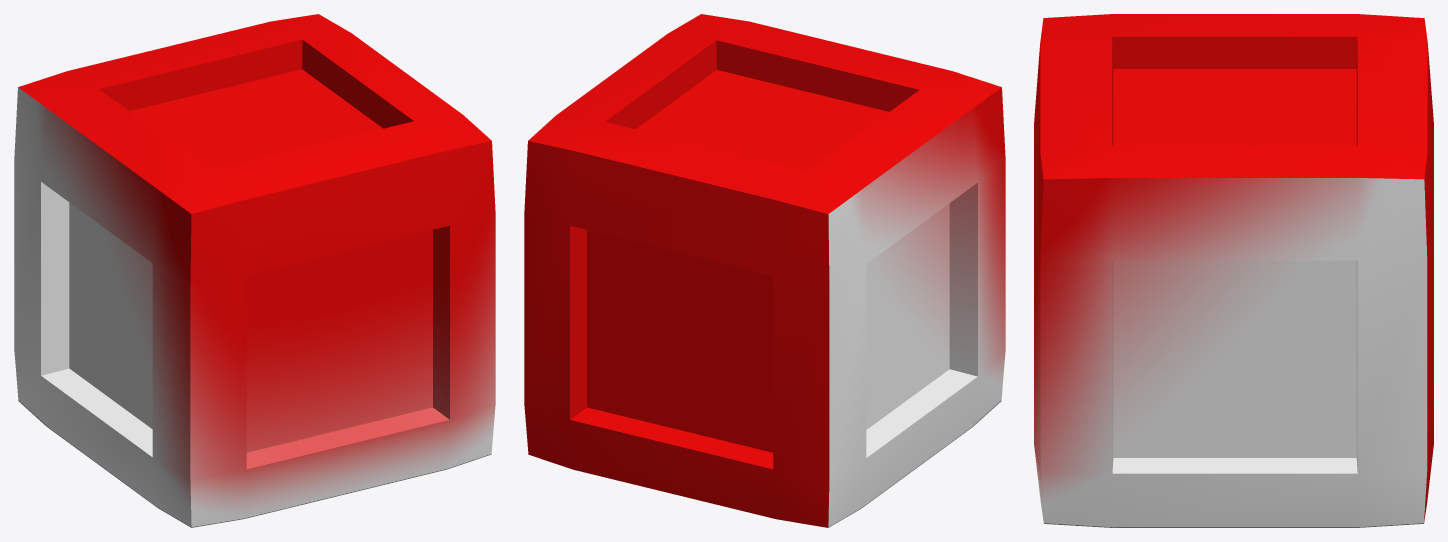
3 views of the same model, side by side, from view 1: azimuth 30°, elevation 25°; view 2: azimuth 150°, elevation 25°; view 3: azimuth 270°, elevation 25° (orthographic). The views are drawn at different scales.
Visible parts, largest first — view 1: pCube1; view 2: pCube1; view 3: pCube1.
Part boxes in pixels (<box>): pCube1: <box>14,14,495,527</box>; pCube1: <box>524,14,1005,527</box>; pCube1: <box>1034,14,1433,527</box>.
Size of the model in its own units: 2.27 by 2.27 by 2.27.
